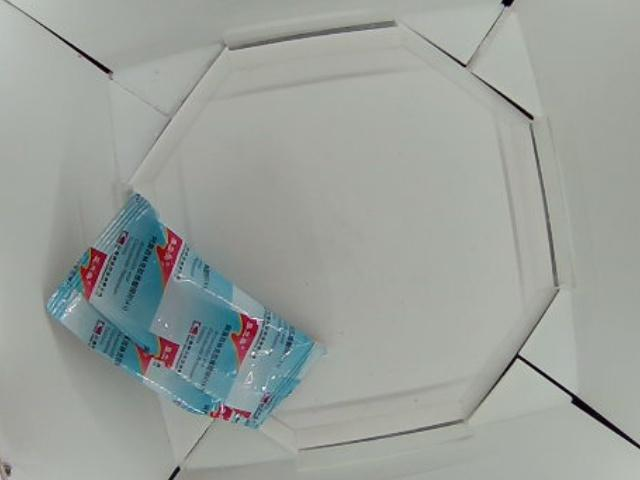Medicine: (43, 192, 328, 428)
